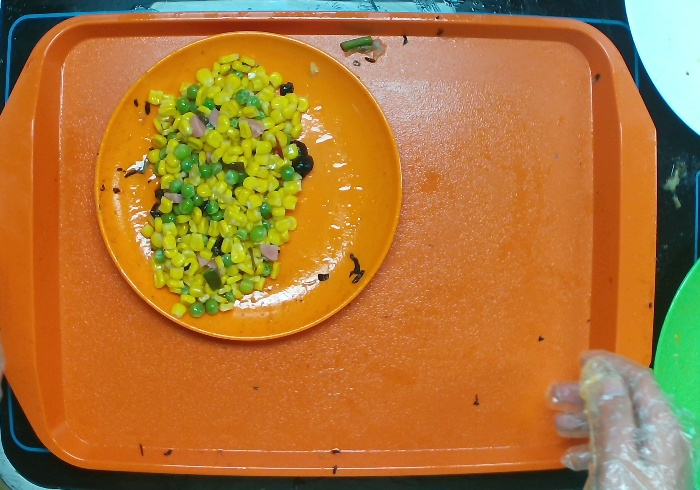HZYJPL-Ju_Huang_Yuan_Pan: (78, 19, 425, 344)
